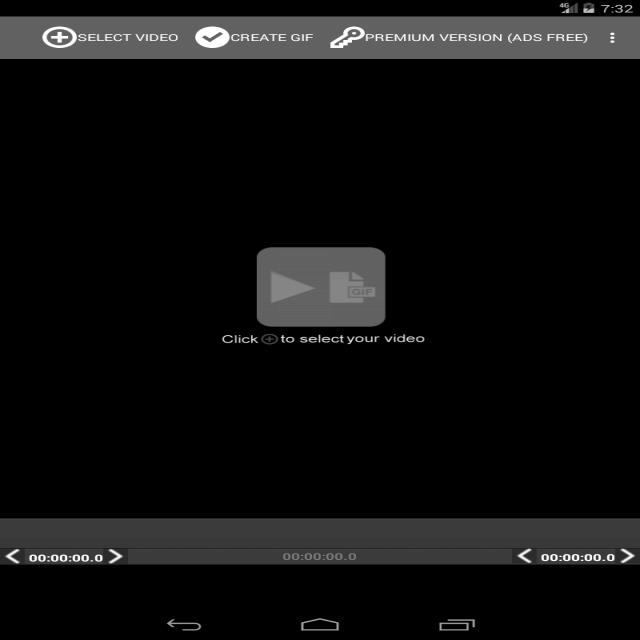ImageButton: (600, 27, 625, 49)
ImageView: (254, 246, 388, 326), (193, 23, 226, 49), (38, 29, 76, 51), (324, 26, 358, 48)
TextView: (364, 32, 590, 44), (221, 335, 433, 347), (82, 30, 185, 44), (230, 31, 314, 44), (33, 551, 103, 563)
